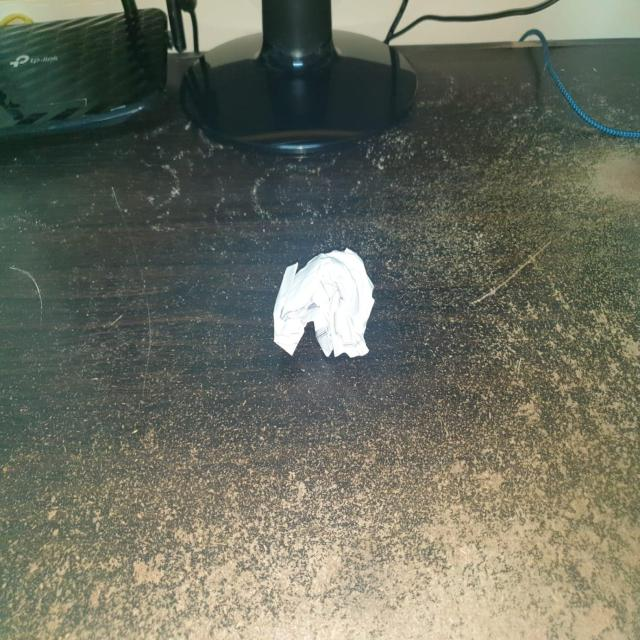kertas: (268, 248, 378, 366)
